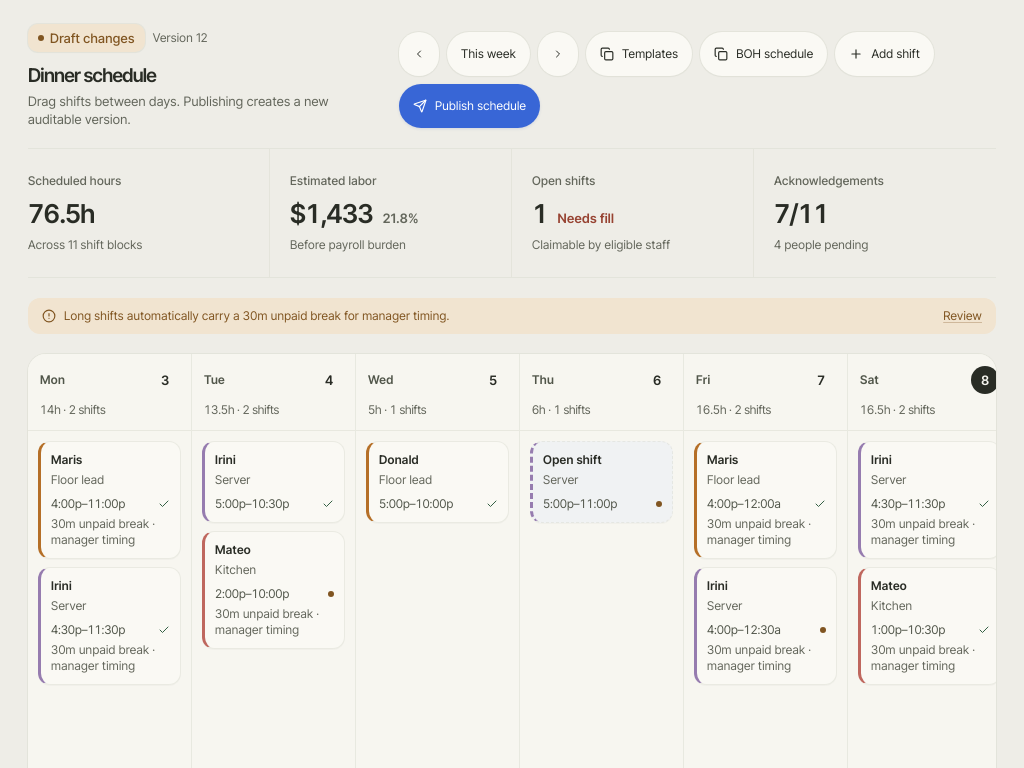
Test case: demo separation of duties › does not let an owner attest for Mateo's shift
What coordinates should you click on to do the following:
click the button "Mateo Kitchen 2:00p–10:00p 30m unpaid break · manager timing"
I would click on:
 (274, 590)
Its box is 202,531 -> 345,649.
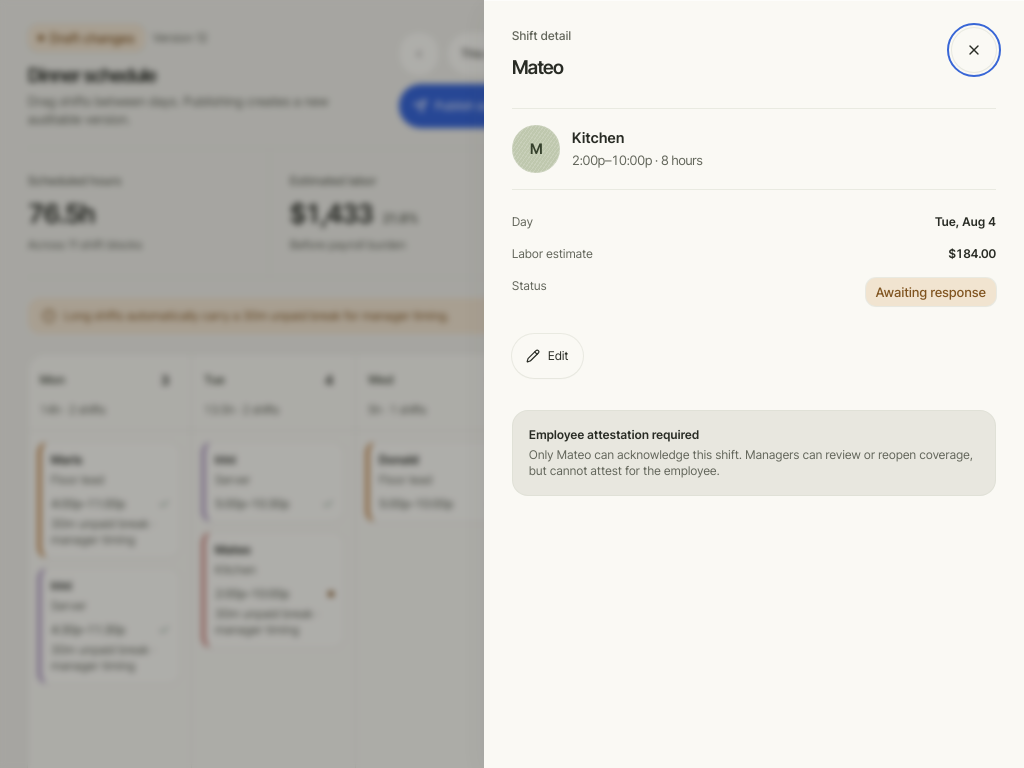
Check: the text "Only Mateo can acknowledge this shift" is shown, box 529,447 -> 979,479
